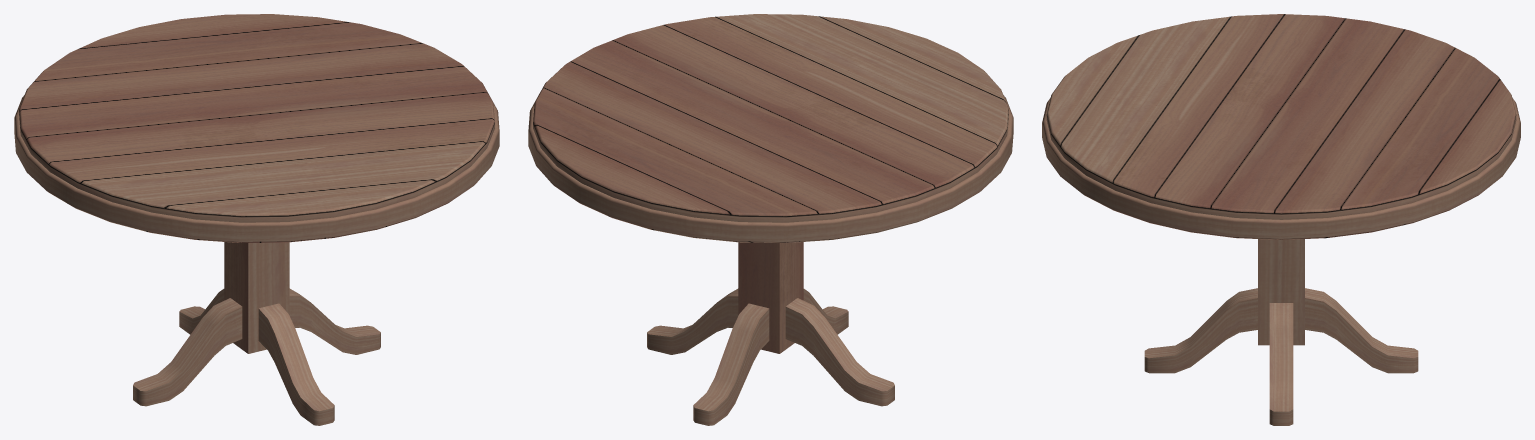
File: SM_Table.fbx
3 renders of one model, left to right at view 1: azimuth 30°, elevation 25°; view 2: azimuth 150°, elevation 25°; view 3: azimuth 270°, elevation 25°, orthographic.
Visible parts, largest first — view 1: Circle, Cube, Plane, Plane.001, Plane.003, Plane.002; view 2: Circle, Cube, Plane, Plane.002, Plane.003, Plane.001; view 3: Circle, Cube, Plane.001, Plane.002, Plane.003.
Part boxes in pixels (x1,y1,x2,y2): Circle: [14, 14, 499, 242]; Cube: [224, 242, 289, 353]; Plane: [133, 298, 242, 406]; Plane.001: [258, 303, 334, 425]; Plane.003: [289, 288, 380, 354]; Plane.002: [179, 289, 224, 334]; Circle: [528, 14, 1013, 242]; Cube: [738, 242, 803, 353]; Plane: [785, 298, 894, 406]; Plane.002: [693, 303, 769, 425]; Plane.003: [647, 288, 738, 354]; Plane.001: [803, 289, 848, 334]; Circle: [1042, 14, 1520, 239]; Cube: [1258, 239, 1304, 345]; Plane.001: [1144, 288, 1257, 373]; Plane.002: [1305, 288, 1418, 373]; Plane.003: [1269, 303, 1293, 425].
Bounding box in the file's own units: 204 × 120 × 204.
